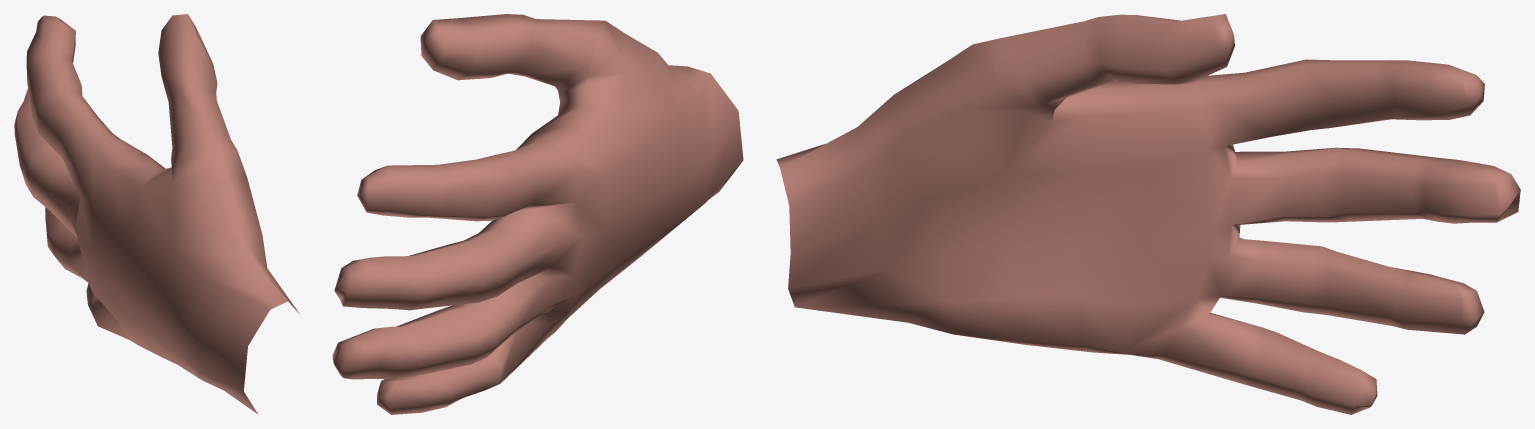
The model's file is man_hand_l.glb.
3 views of the same model, side by side, from view 1: azimuth 30°, elevation 25°; view 2: azimuth 150°, elevation 25°; view 3: azimuth 270°, elevation 25° (orthographic). The views are drawn at different scales.
Visible parts, largest first — view 1: Wolf3D_Body; view 2: Wolf3D_Body; view 3: Wolf3D_Body.
Part boxes in pixels (x1,y1,x2,y2): Wolf3D_Body: [14, 14, 299, 414]; Wolf3D_Body: [332, 14, 743, 414]; Wolf3D_Body: [776, 14, 1520, 414].
Size of the model in its own units: 0.9998 by 2.2 by 3.64.
Materials: 1 (1 with a texture image).
